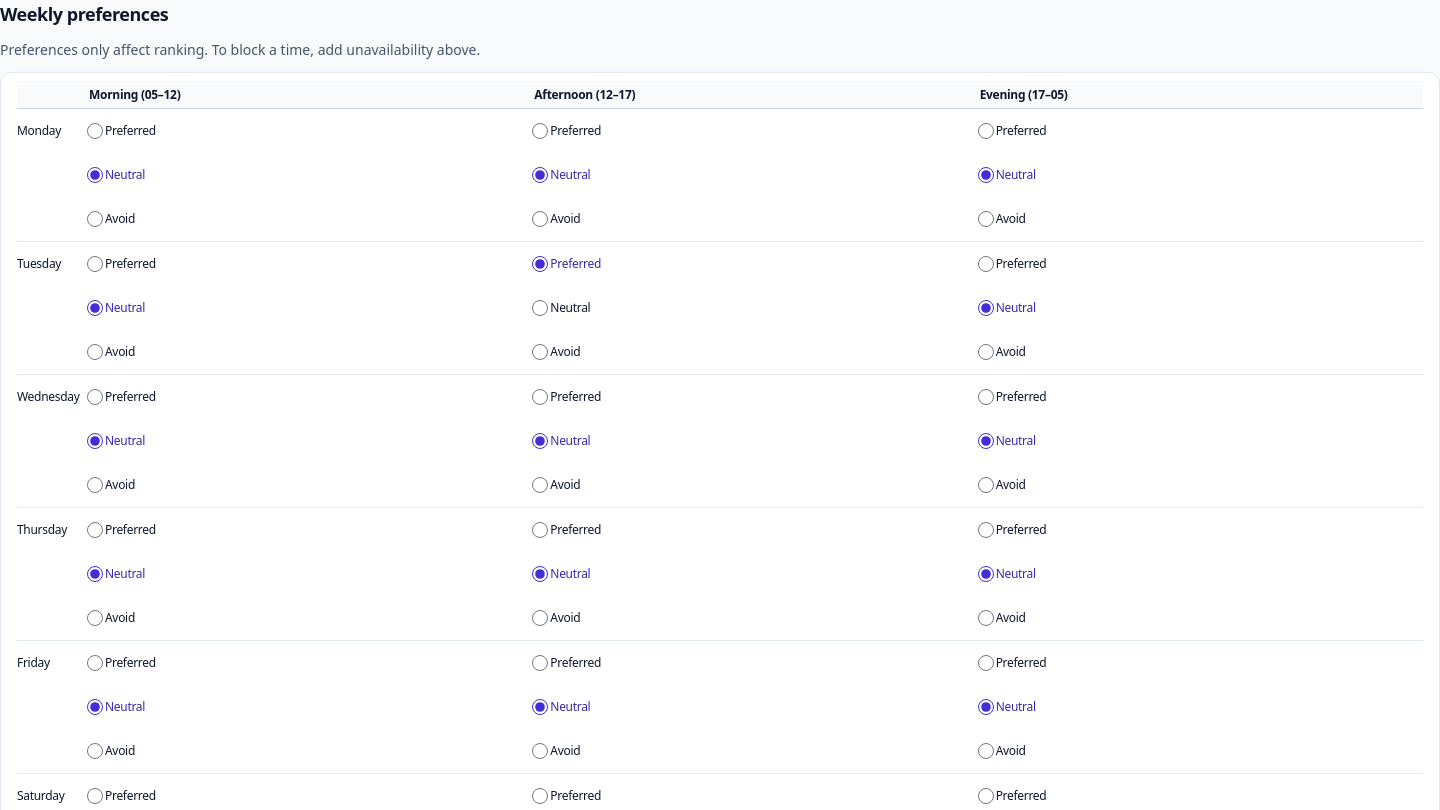
PreferenceGrid › shows the error in an alert and keeps the choices
Expected: the 5th radio button labelled "Preferred" is checked, [532,256,548,272]
Click the 1st radio button labelled "Avoid". click: (95, 219)
box: [87,211,103,227]
(page scrolled)
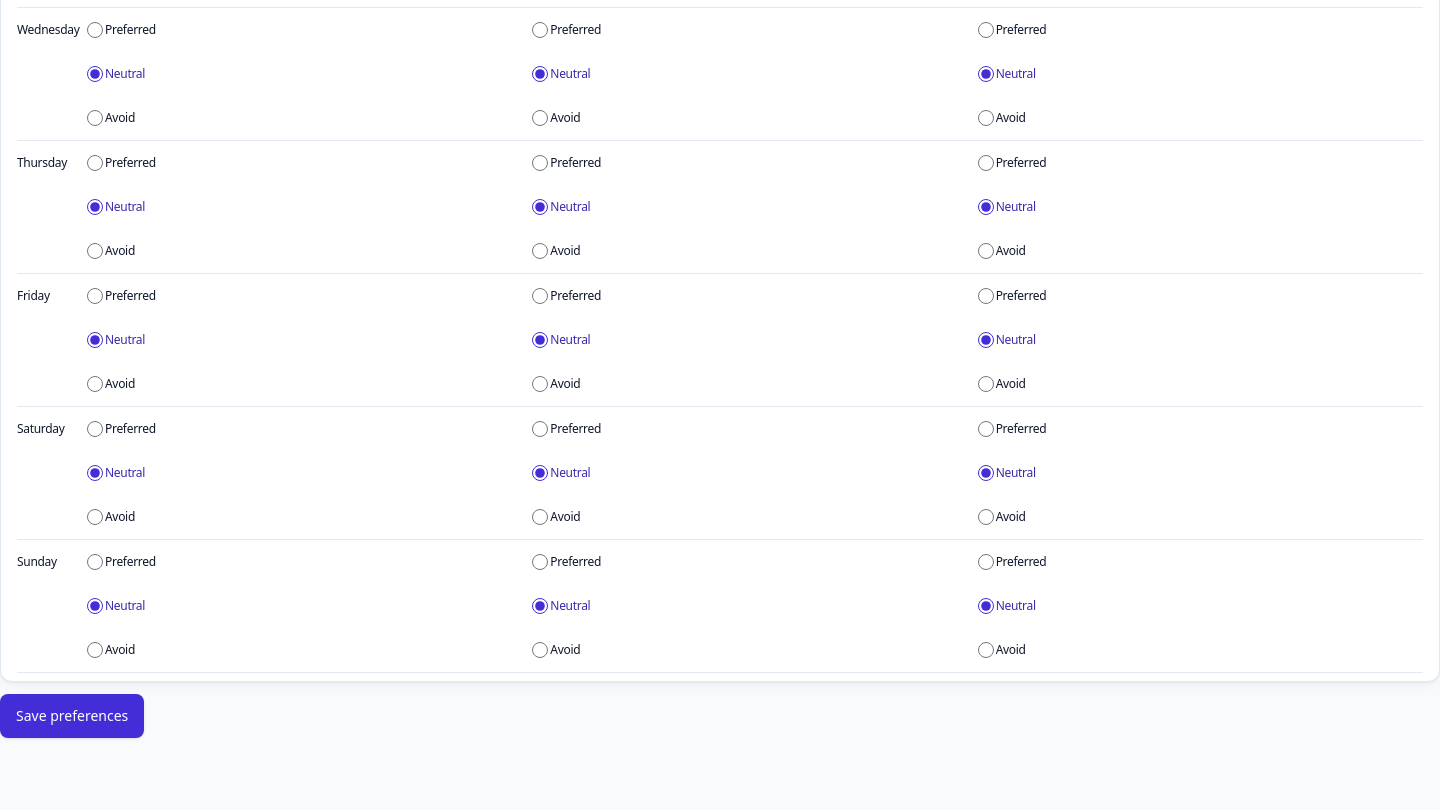
Click the button "Save preferences". click: (72, 716)
box: [0,694,144,738]
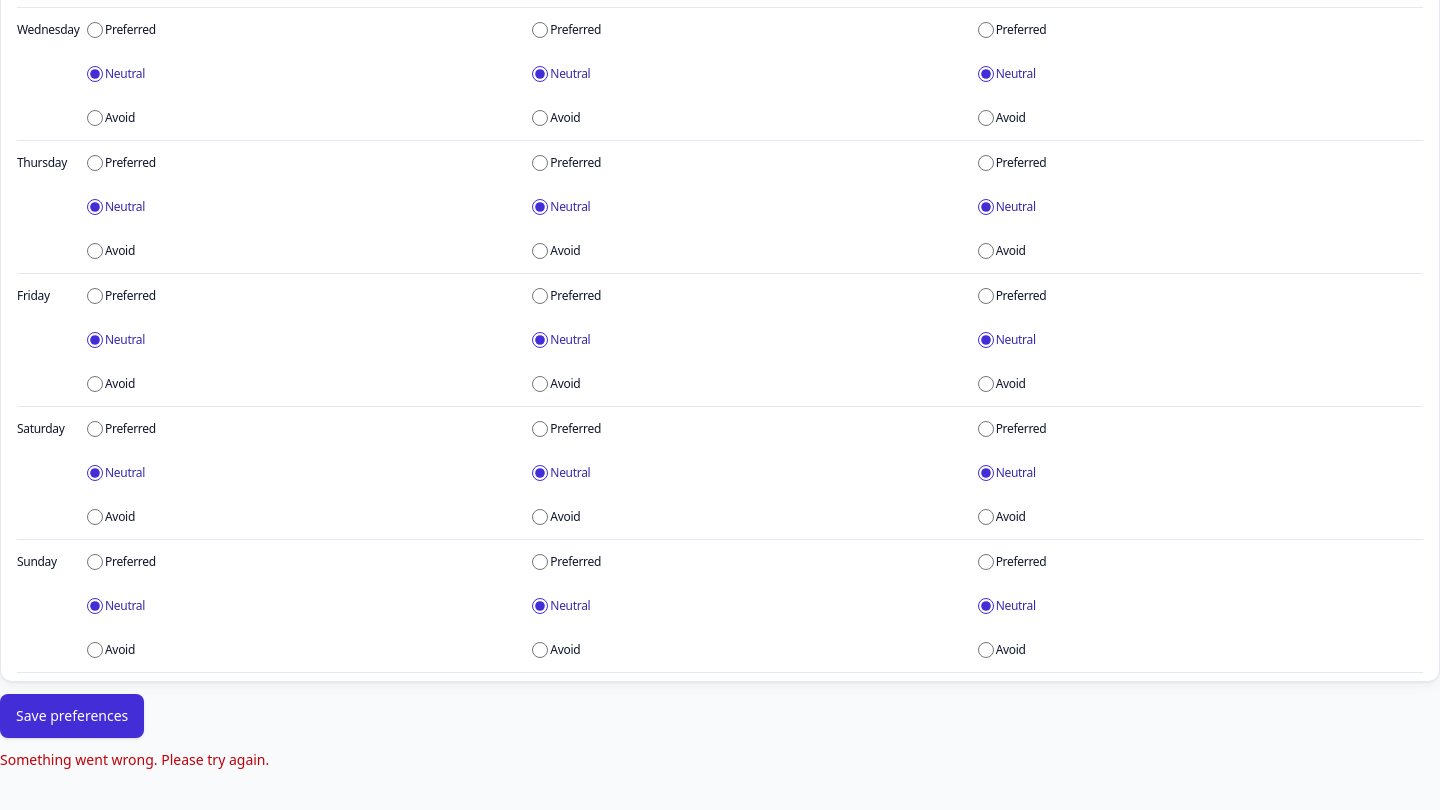
Expected: the button "Save preferences" is enabled, [0,694,144,738]
Expected: the message "Something went wrong. Please try again." is shown, [0,750,269,769]
